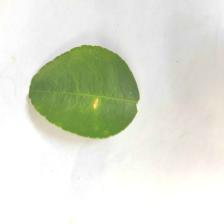greening: (45, 53, 125, 136)
